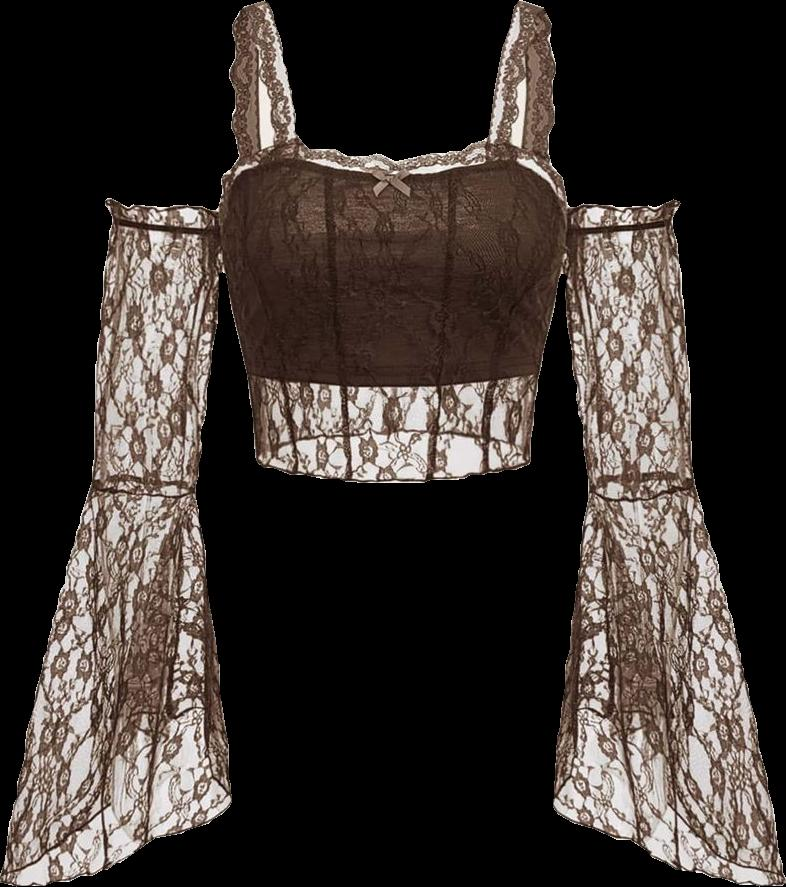Bodice: (211, 0, 572, 482)
Neckline: (260, 2, 524, 166)
Sleeve: (553, 198, 784, 886), (0, 199, 231, 886)
Sleeveline: (109, 206, 233, 274), (555, 216, 671, 276), (586, 480, 697, 505), (87, 477, 200, 501)
Waistline: (252, 453, 533, 487)
